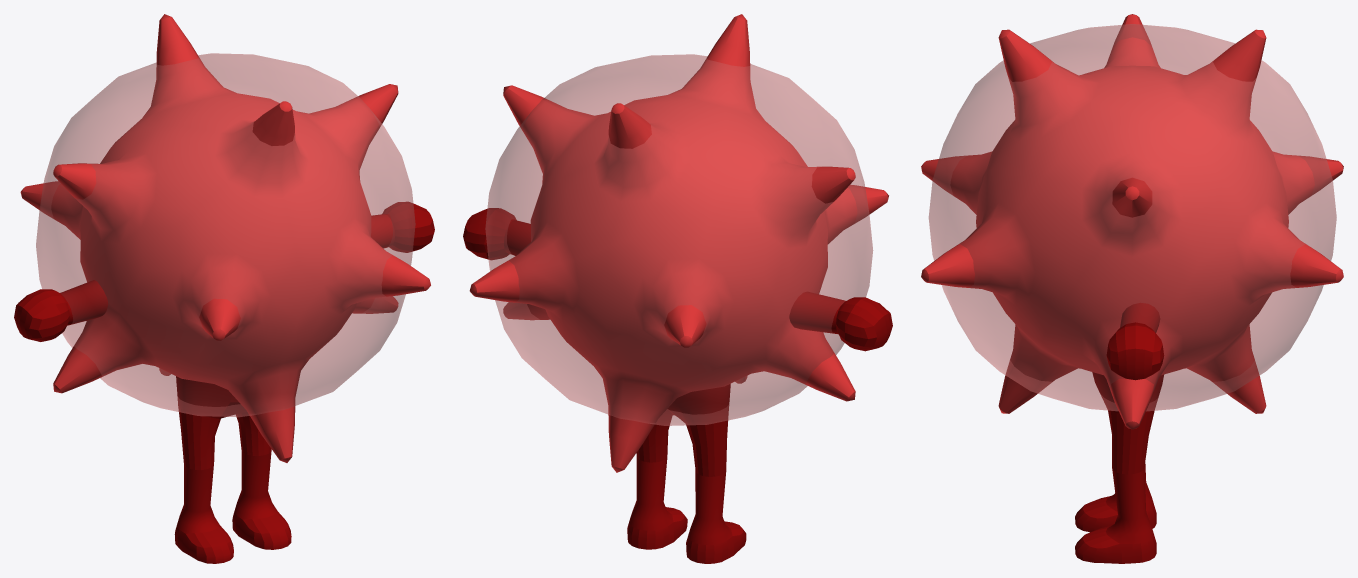
File: EnemyUnit.fbx
3 renders of one model, left to right at view 1: azimuth 30°, elevation 25°; view 2: azimuth 150°, elevation 25°; view 3: azimuth 270°, elevation 25°, orthographic. The views are drawn at different scales.
Visible parts, largest first — view 1: Bubble, SpikedBallSharp, Enemy; view 2: Bubble, SpikedBallSharp, Enemy; view 3: Bubble, SpikedBallSharp, Enemy.
Boxes of the visible parts, <box> form: Bubble: <box>36,53,415,417</box>; SpikedBallSharp: <box>20,14,430,462</box>; Enemy: <box>14,201,434,563</box>; Bubble: <box>485,54,873,425</box>; SpikedBallSharp: <box>469,14,888,472</box>; Enemy: <box>463,208,892,563</box>; Bubble: <box>928,24,1336,411</box>; SpikedBallSharp: <box>921,14,1343,429</box>; Enemy: <box>1075,302,1164,563</box>.
Size of the model in its own units: 85.52 by 95.04 by 71.6.
